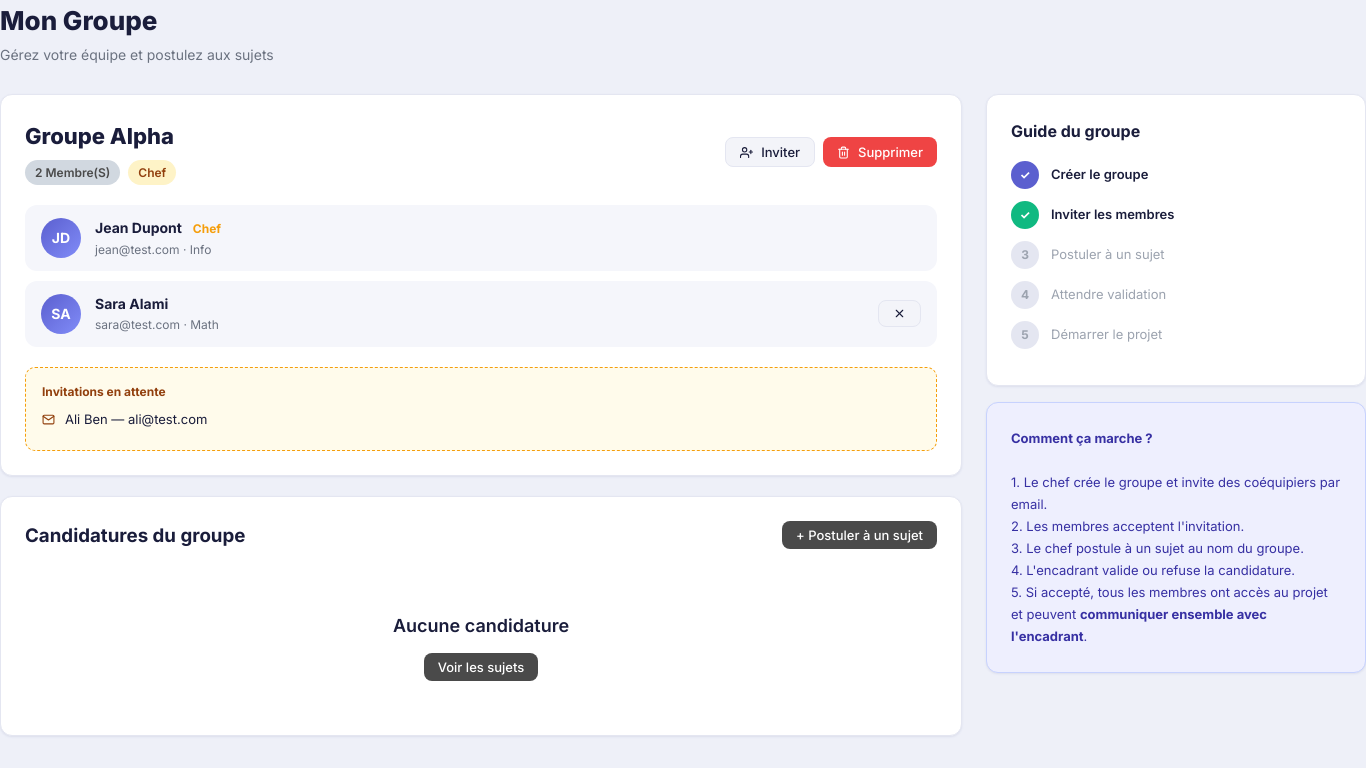
Test: GroupPage - Group Panel (Chef) › closes invite modal on Annuler
Click the button "Inviter" at point(770, 152), box left=725, top=137, right=815, bottom=167
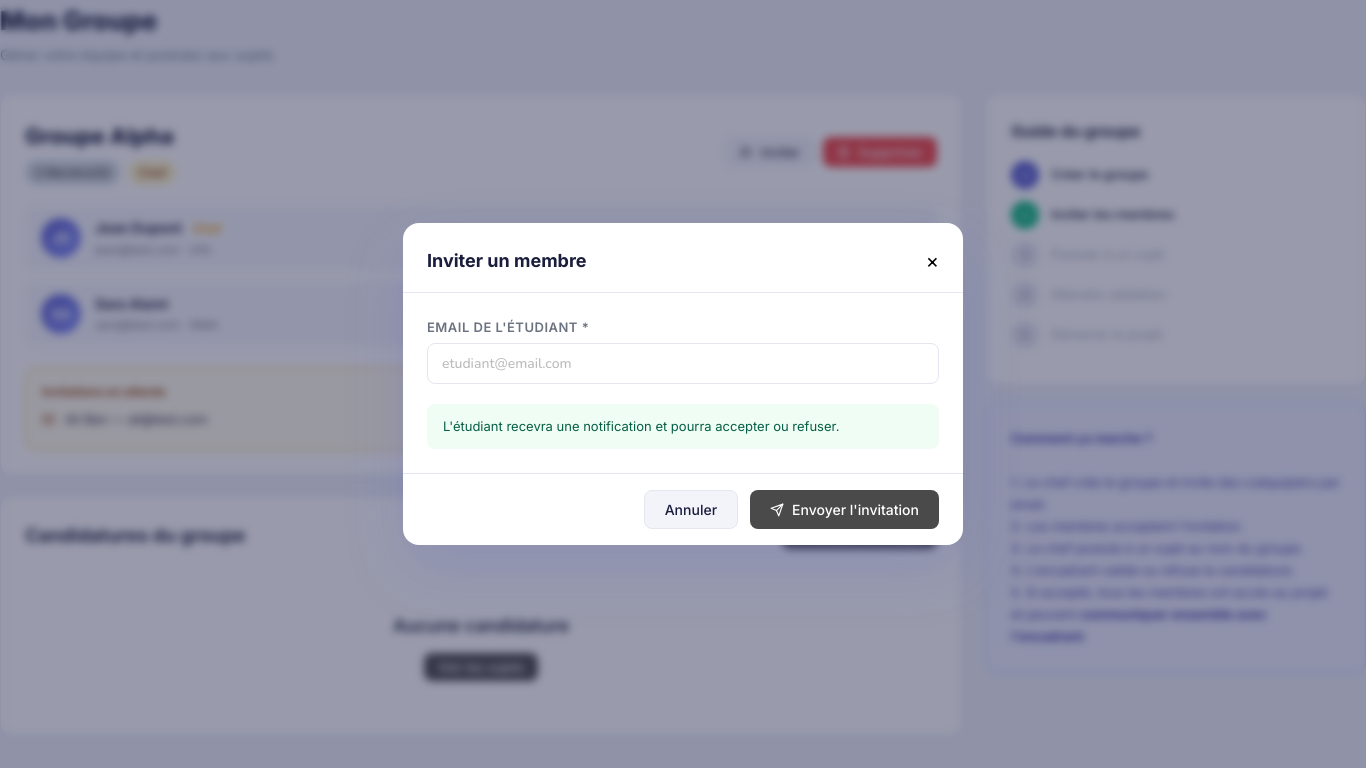
Click the button "Annuler" at point(691, 510), box left=644, top=490, right=738, bottom=529
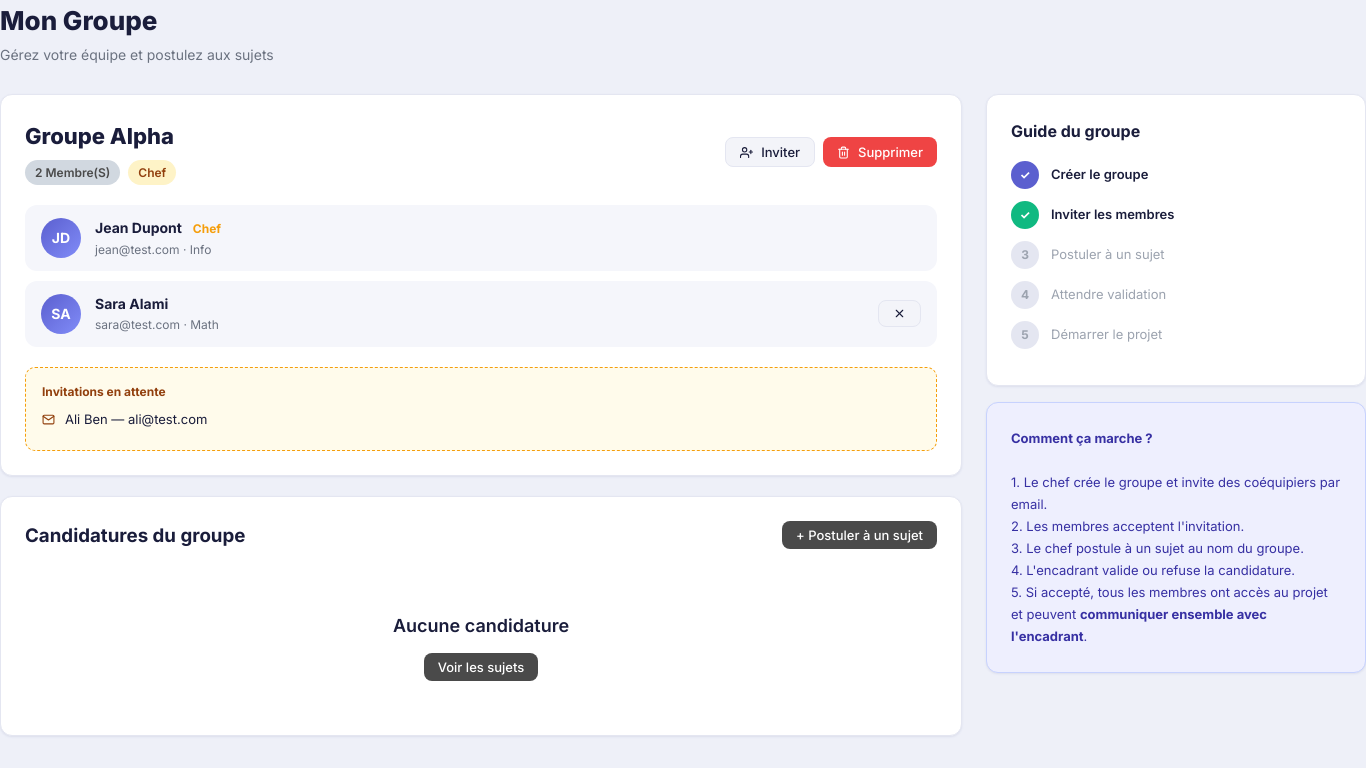
Now the heading "Inviter un membre" is gone
